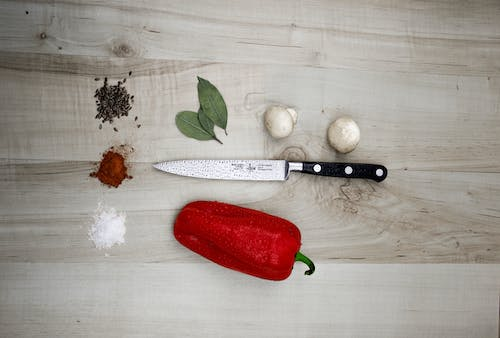knife: (152, 159, 390, 184)
